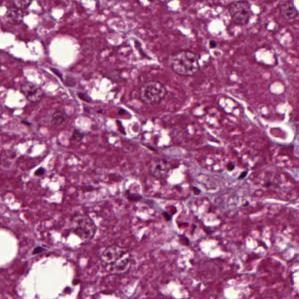ballooning: (12, 251, 84, 297), (46, 33, 82, 71)
